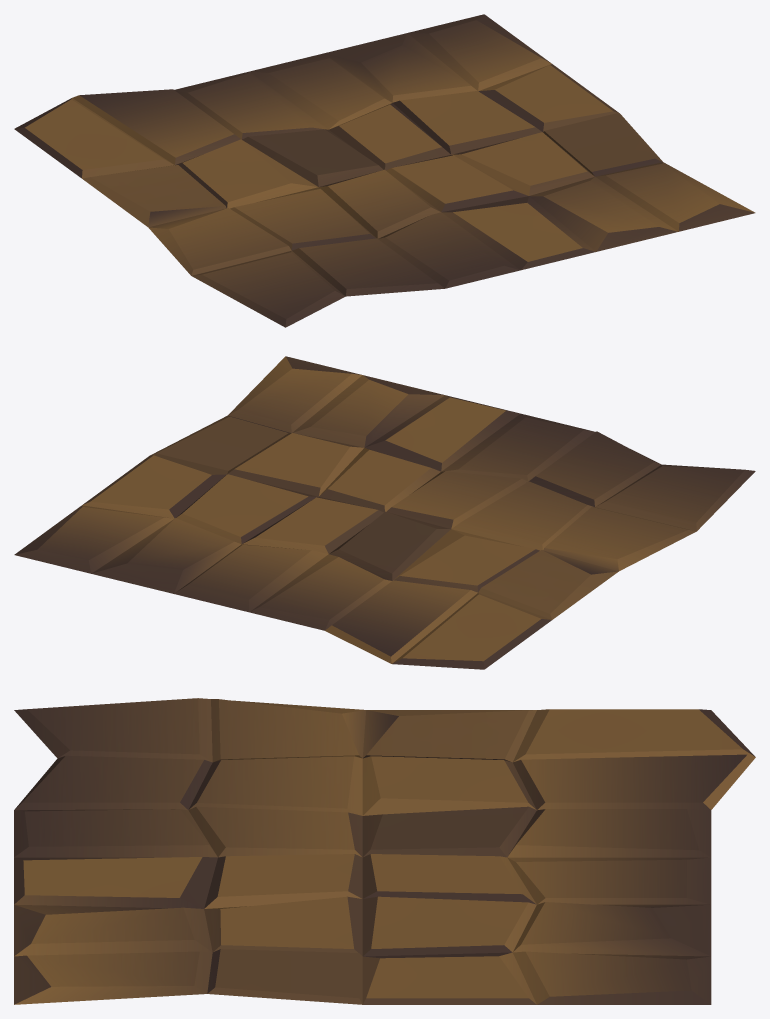
Rendered from floor.fbx.
3 renders of one model, top to bottom at view 1: azimuth 30°, elevation 25°; view 2: azimuth 150°, elevation 25°; view 3: azimuth 270°, elevation 25°, orthographic. The views are drawn at different scales.
Visible parts, largest first — view 1: Plane.001; view 2: Plane.001; view 3: Plane.001.
Part boxes in pixels (x1,y1,x2,y2): Plane.001: (14, 14, 755, 327); Plane.001: (14, 356, 755, 669); Plane.001: (14, 698, 755, 1004).
Size of the model in its own units: 3707 by 32.04 by 3802.
